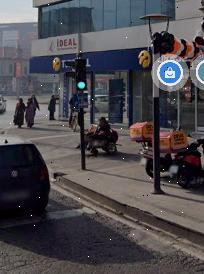greenlight: (76, 60, 87, 91)
